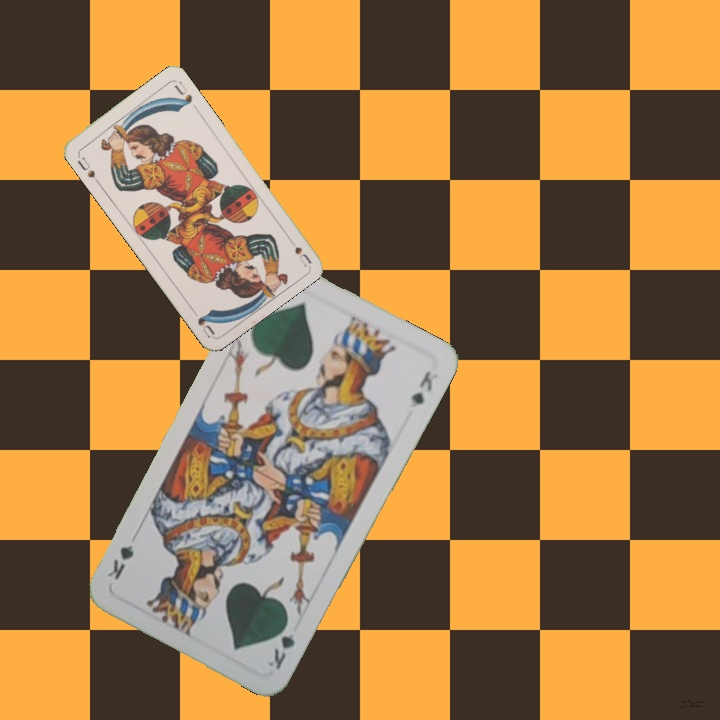GK: (263, 615, 298, 673)
SU: (73, 153, 102, 186), (290, 242, 313, 268)
